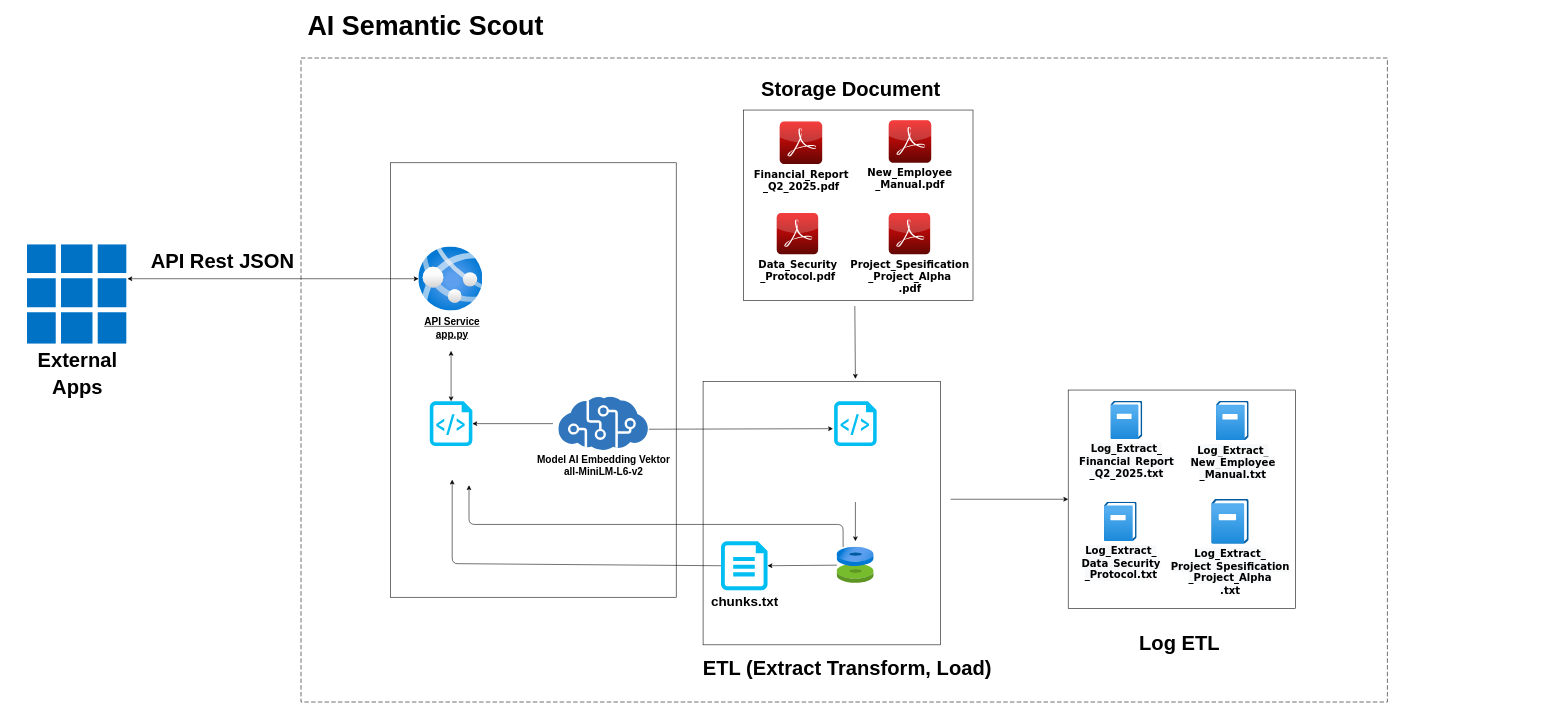
Some shapes in this 1556 by 712 pixel diagram are drawn without their labels. The shapes that lost their labels are listed below. From the top down, each one's centre as x and y in pixels, then its label:
At (x=451, y=423): "Find find.py".
At (x=855, y=423): "Extract Content Document etl-content.py".
At (x=855, y=565): "Database Vektor document_index.bin".
